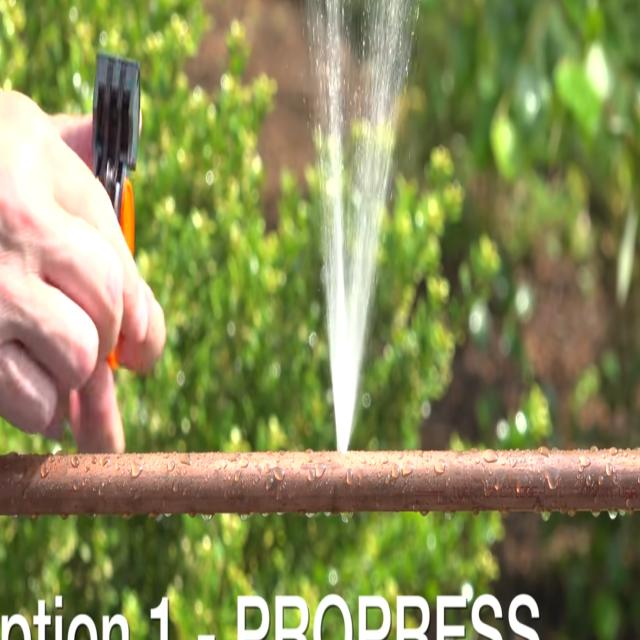leak: (304, 0, 423, 455)
